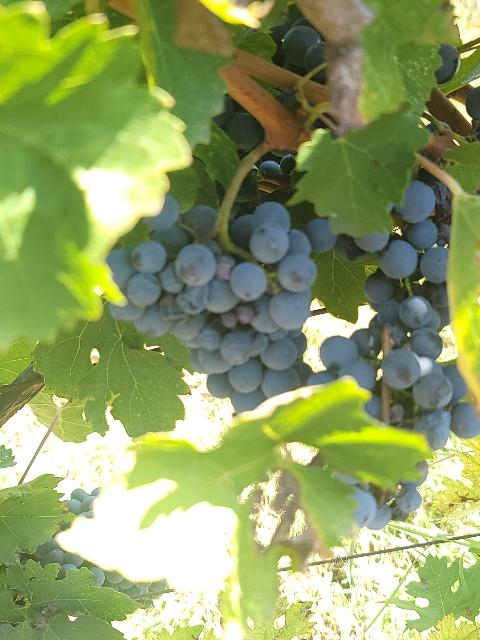grapes: (106, 195, 336, 411), (308, 319, 480, 450), (364, 181, 449, 359), (335, 472, 422, 530)
